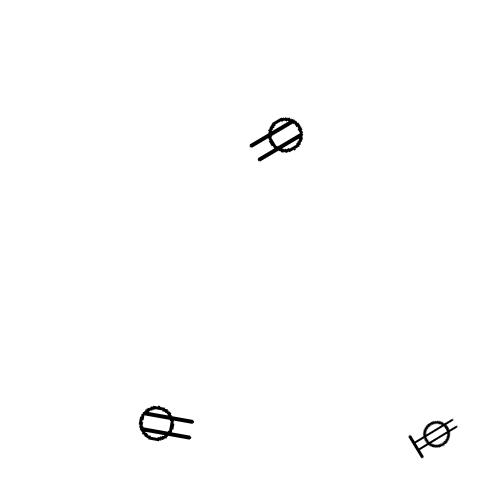Duplex-Receptacle: (135, 407, 194, 443), (249, 121, 308, 157), (409, 418, 461, 451)
